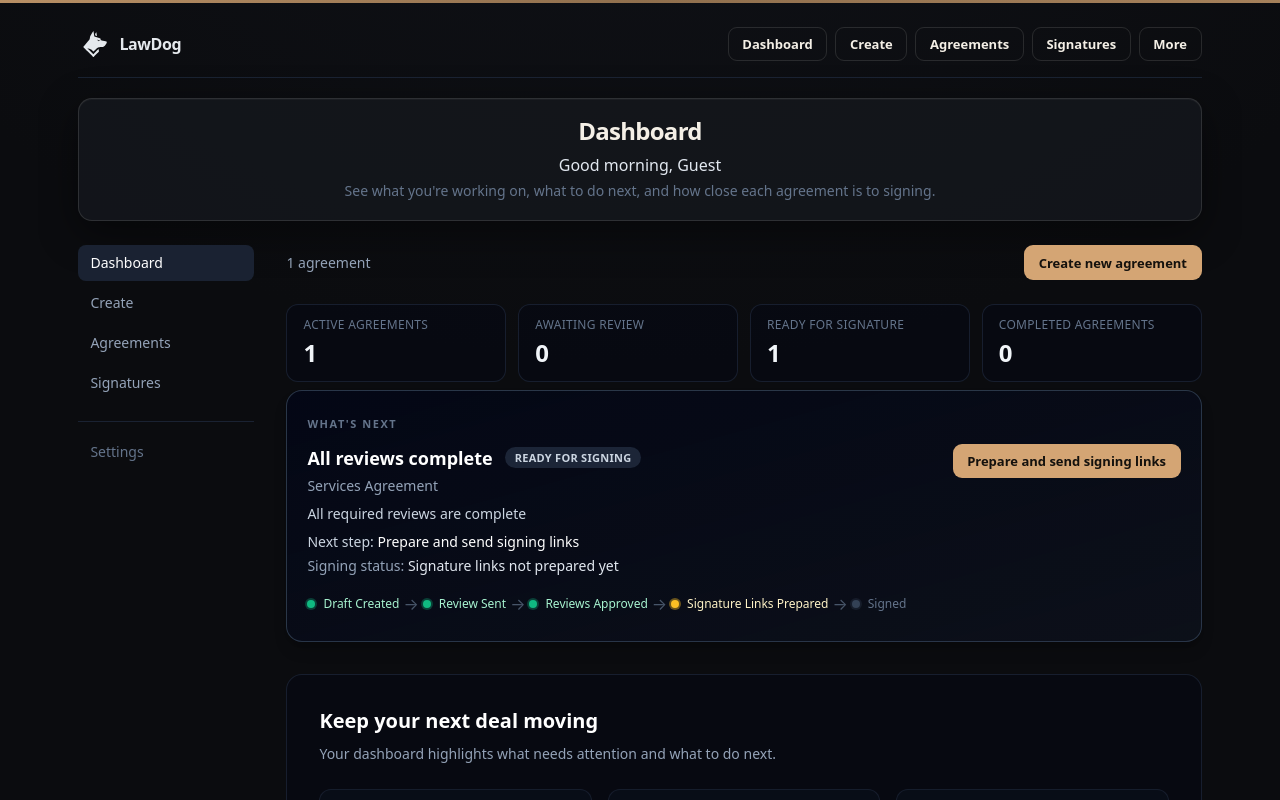
AppDashboard creator-centric surface › shows bridge failure notice on dashboard instead of bouncing through done page
Step 1. Click the button "Prepare and send signing links" → (1067, 461), box [952, 444, 1181, 478]
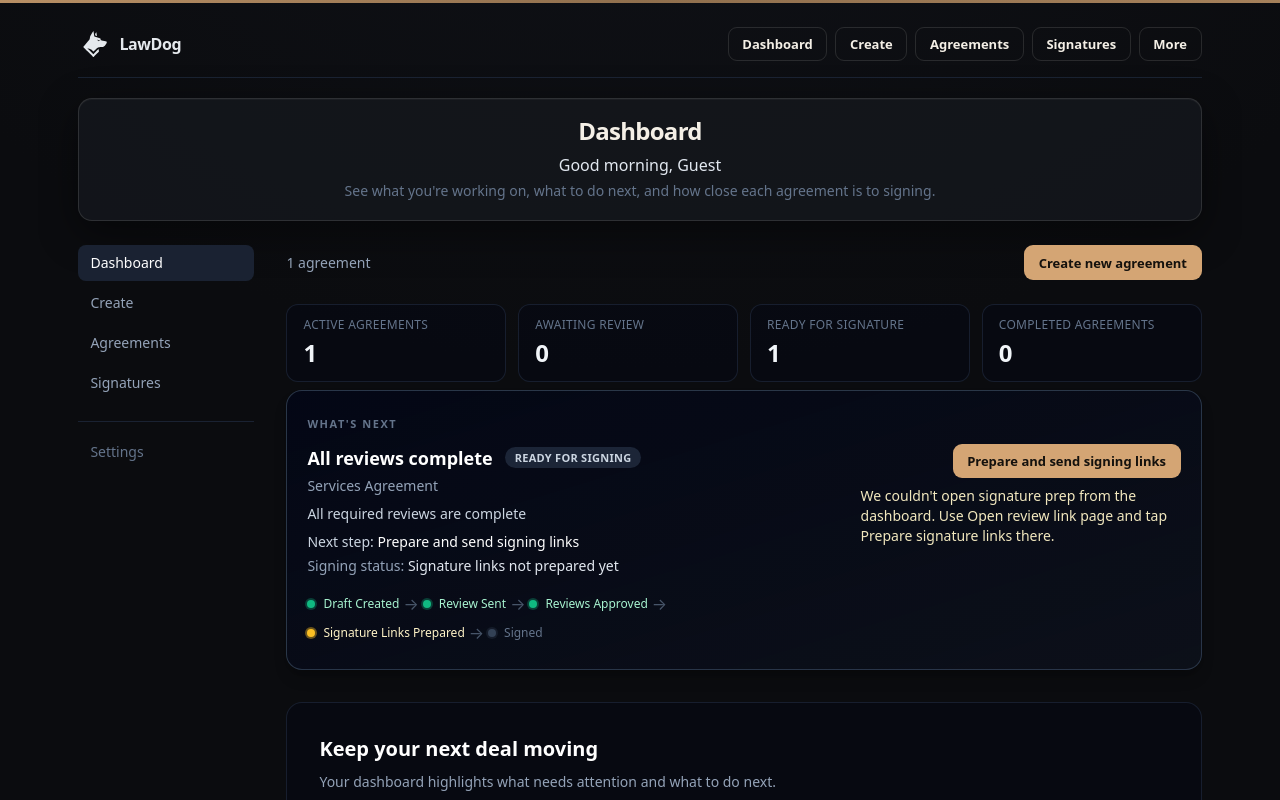
Expected: the text with test id "creator-dashboard-prepare-notice-ag_ready" is shown, [861, 486, 1181, 546]
Expected: the text with test id "creator-dashboard-prepare-notice-ag_ready" shows "Open review link page", [861, 486, 1167, 545]
